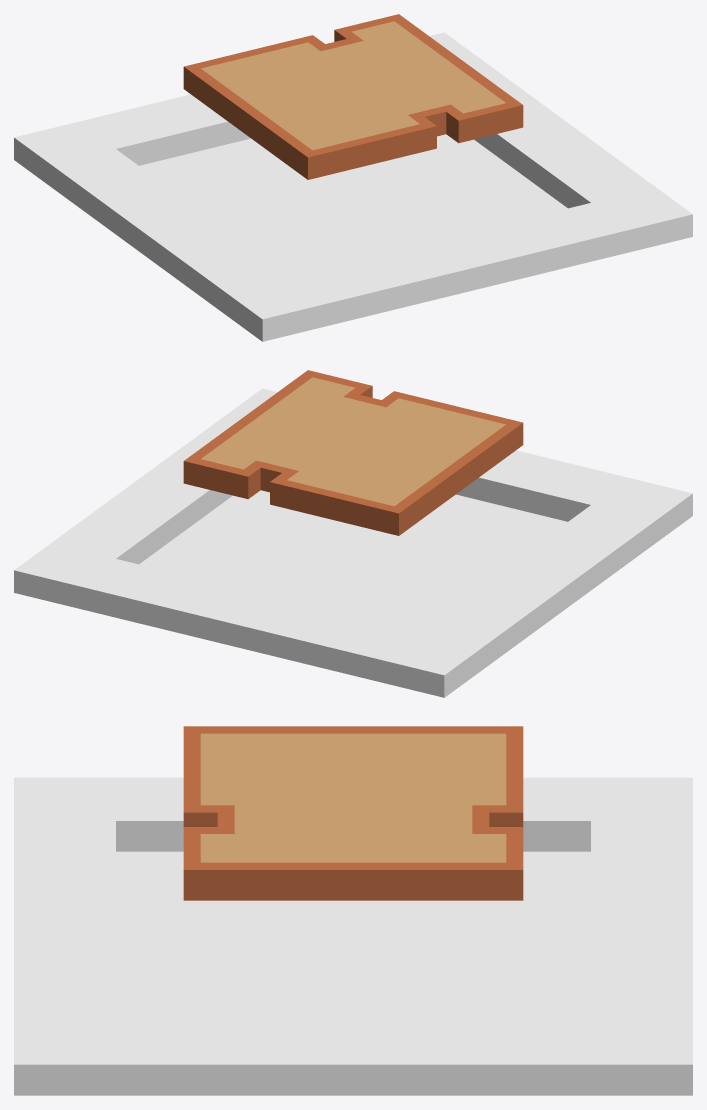
The model's file is main.obj.
The picture shows the model from 3 angles, top to bottom: view 1: azimuth 30°, elevation 25°; view 2: azimuth 150°, elevation 25°; view 3: azimuth 270°, elevation 25°; orthographic projection. The views are drawn at different scales.
Bounding box in the file's own units: 4 × 1.2 × 4.
Materials: 1 (1 with a texture image).
